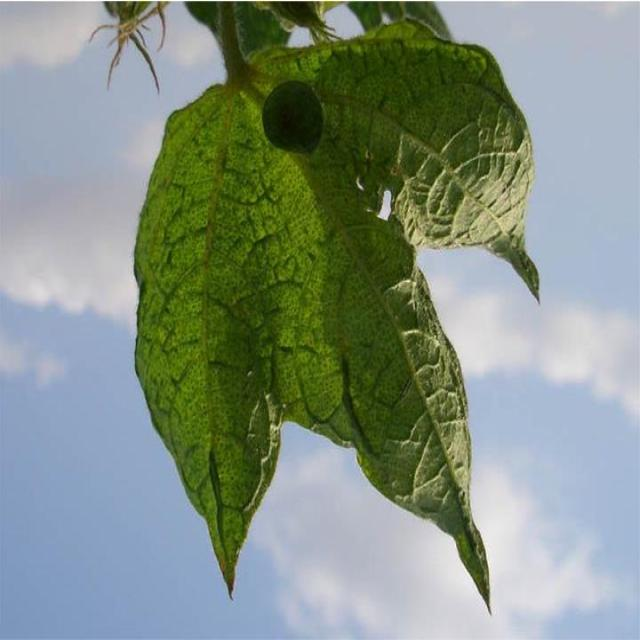Leaf Curl Virus: (204, 70, 478, 444)
